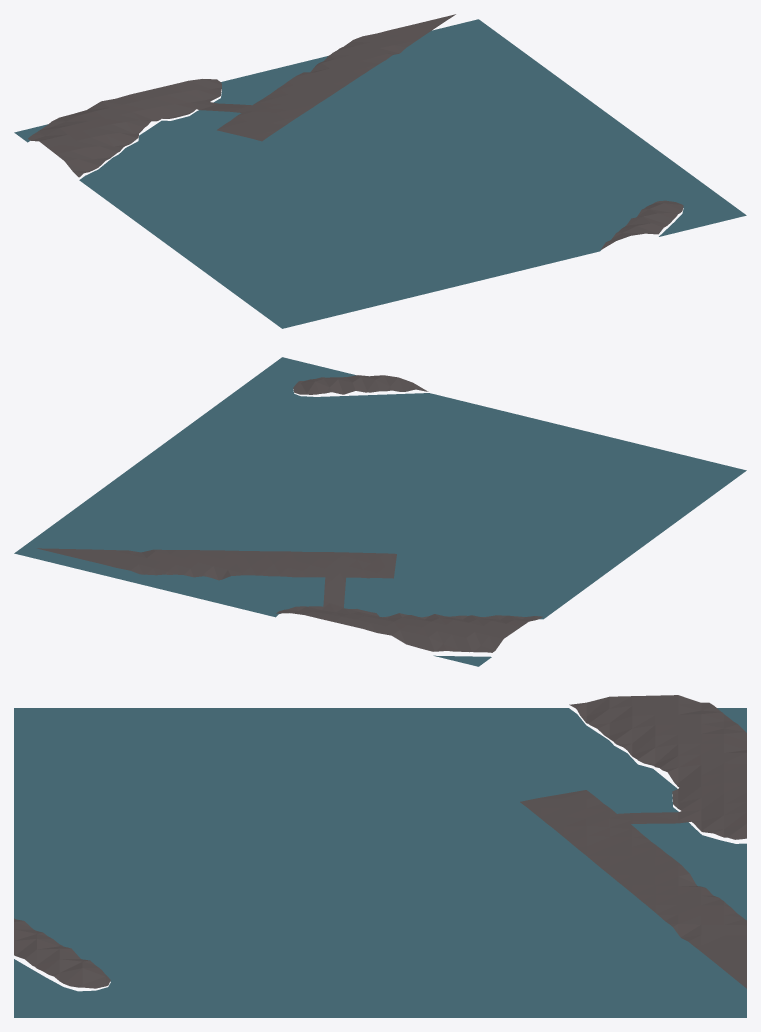
3 views of the same model, one above another, from view 1: azimuth 30°, elevation 25°; view 2: azimuth 150°, elevation 25°; view 3: azimuth 270°, elevation 25° (orthographic). The views are drawn at different scales.
Visible parts, largest first — view 1: c_m21_p08; view 2: c_m21_p08; view 3: c_m21_p08.
Boxes of the visible parts, x1,y1,x2,y2 form: c_m21_p08: [14, 14, 746, 328]; c_m21_p08: [14, 357, 746, 666]; c_m21_p08: [14, 695, 746, 1017].
Bounding box in the file's own units: 128 × 3.36 × 128.
